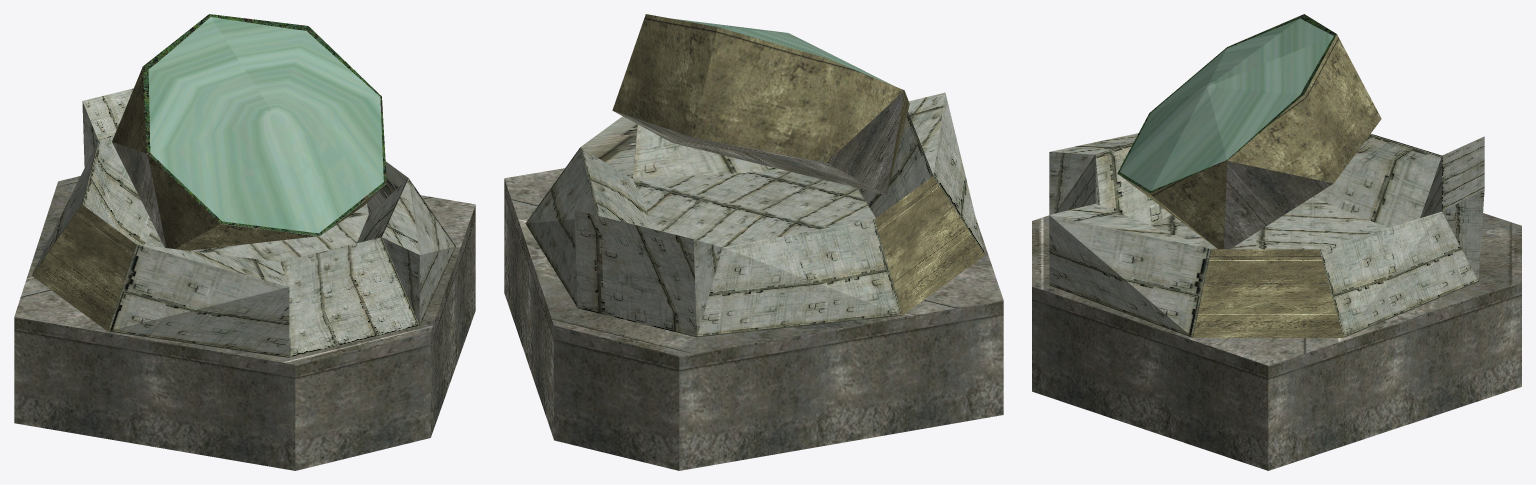
File: ins_all_flora_farm_s01_u0_l2.fbx
The picture shows the model from 3 angles, left to right: view 1: azimuth 30°, elevation 25°; view 2: azimuth 150°, elevation 25°; view 3: azimuth 270°, elevation 25°; orthographic projection. The views are drawn at different scales.
Parts seen in each view (by area): view 1: mesh_node; view 2: mesh_node; view 3: mesh_node.
Part boxes in pixels (box(x1,y1,x2,y2)): mesh_node: box(14, 14, 475, 470); mesh_node: box(504, 14, 1003, 470); mesh_node: box(1032, 14, 1521, 470).
Size of the model in its own units: 10.23 by 6.95 by 9.49.
